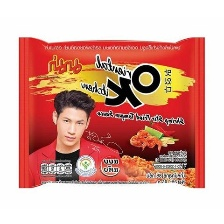snack: (10, 29, 215, 194)
